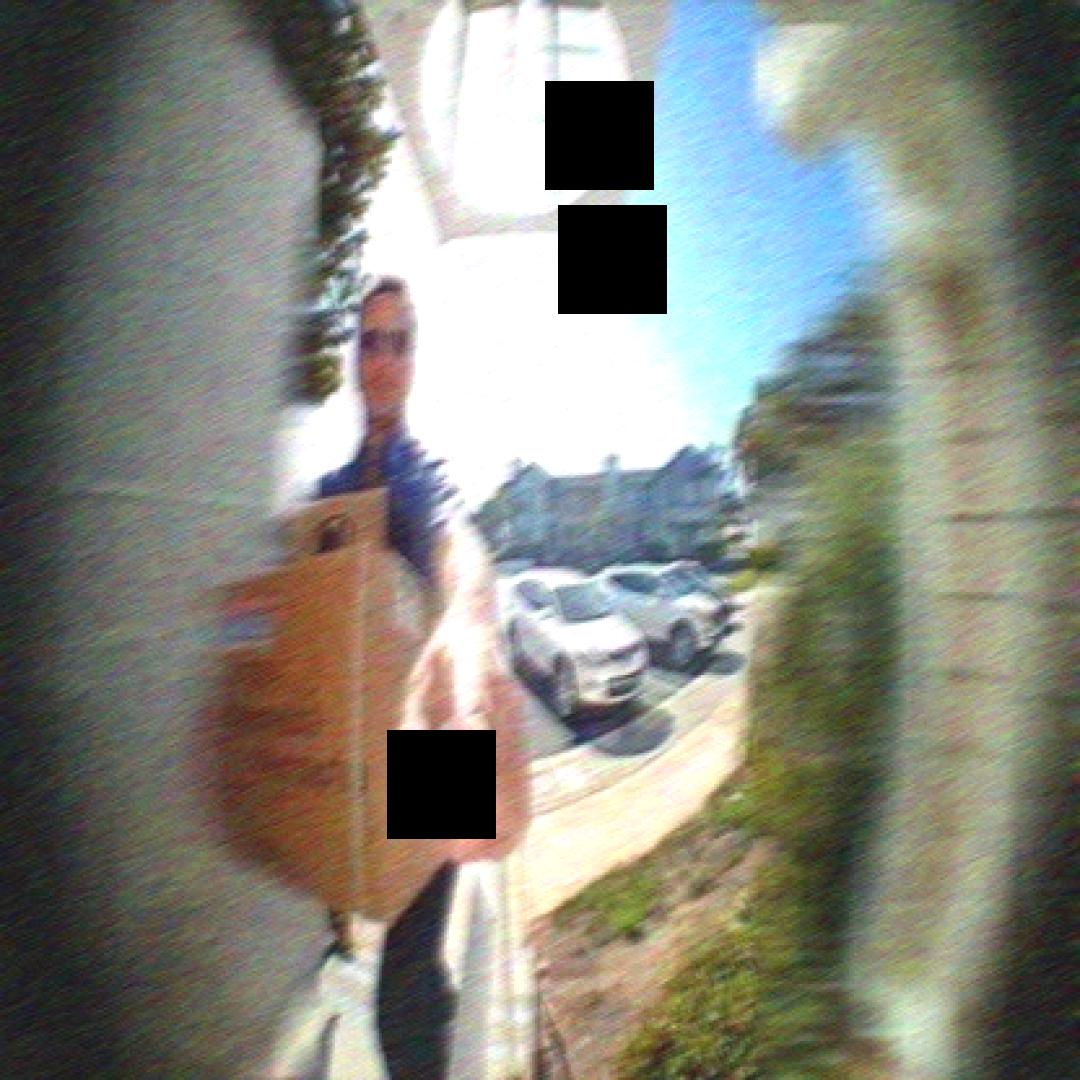package: (210, 550, 480, 939), (288, 488, 423, 576)
